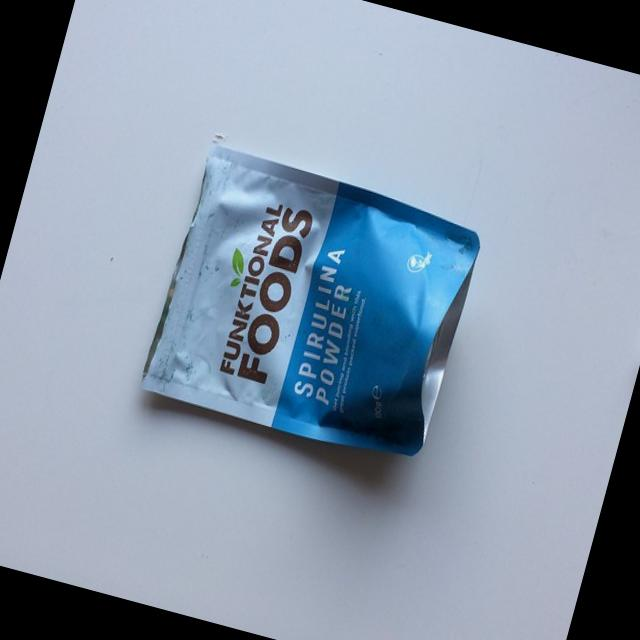Trash: (139, 137, 487, 470)
